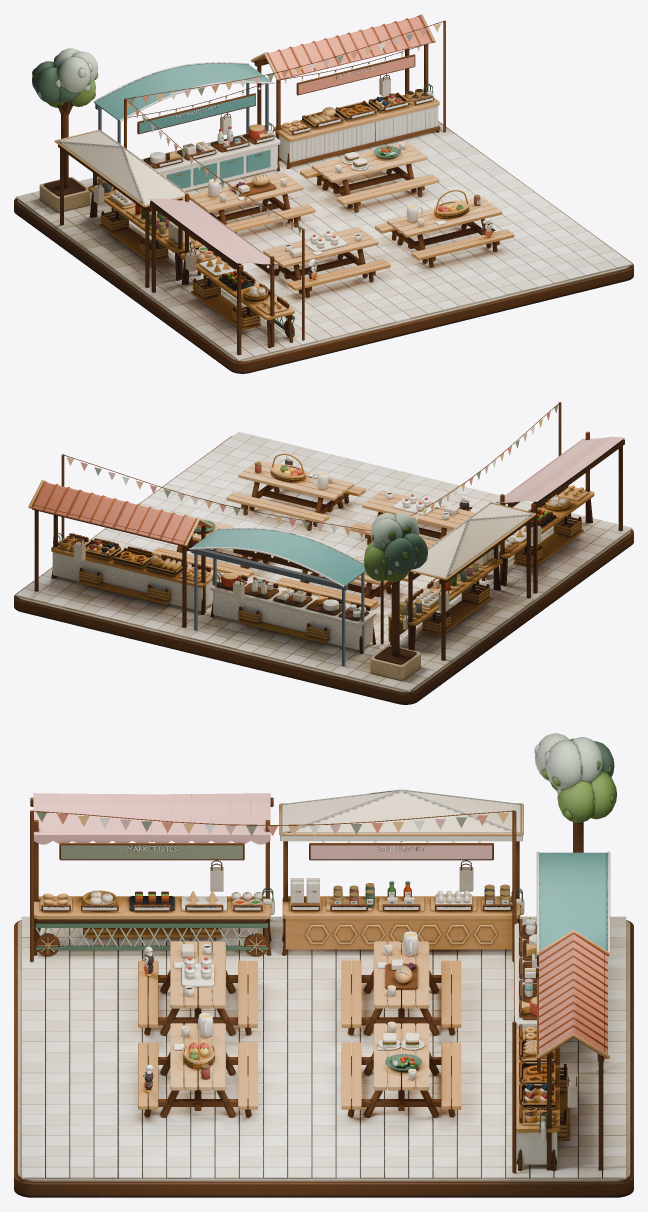
The model's file is farmers-market-baked.glb.
3 renders of one model, top to bottom at view 1: azimuth 30°, elevation 25°; view 2: azimuth 150°, elevation 25°; view 3: azimuth 270°, elevation 25°, orthographic. The views are drawn at different scales.
Visible parts, largest first — view 1: Baked farmers-market architecture, Baked farmers-market details, Live glass and reflective metal; view 2: Baked farmers-market architecture, Baked farmers-market details, Live glass and reflective metal; view 3: Baked farmers-market details, Baked farmers-market architecture, Live glass and reflective metal.
Boxes of the visible parts, box(x1,y1,x2,y2) form: Baked farmers-market architecture: box(14, 14, 633, 373); Baked farmers-market details: box(15, 23, 632, 361); Live glass and reflective metal: box(95, 47, 480, 265); Baked farmers-market architecture: box(14, 402, 633, 704); Baked farmers-market details: box(15, 405, 632, 692); Live glass and reflective metal: box(191, 462, 507, 666); Baked farmers-market details: box(21, 744, 626, 1179); Baked farmers-market architecture: box(14, 733, 633, 1197); Live glass and reflective metal: box(44, 841, 510, 1079).
Size of the model in its own units: 13 by 5.04 by 12.8.
6 materials, 2 textured.
